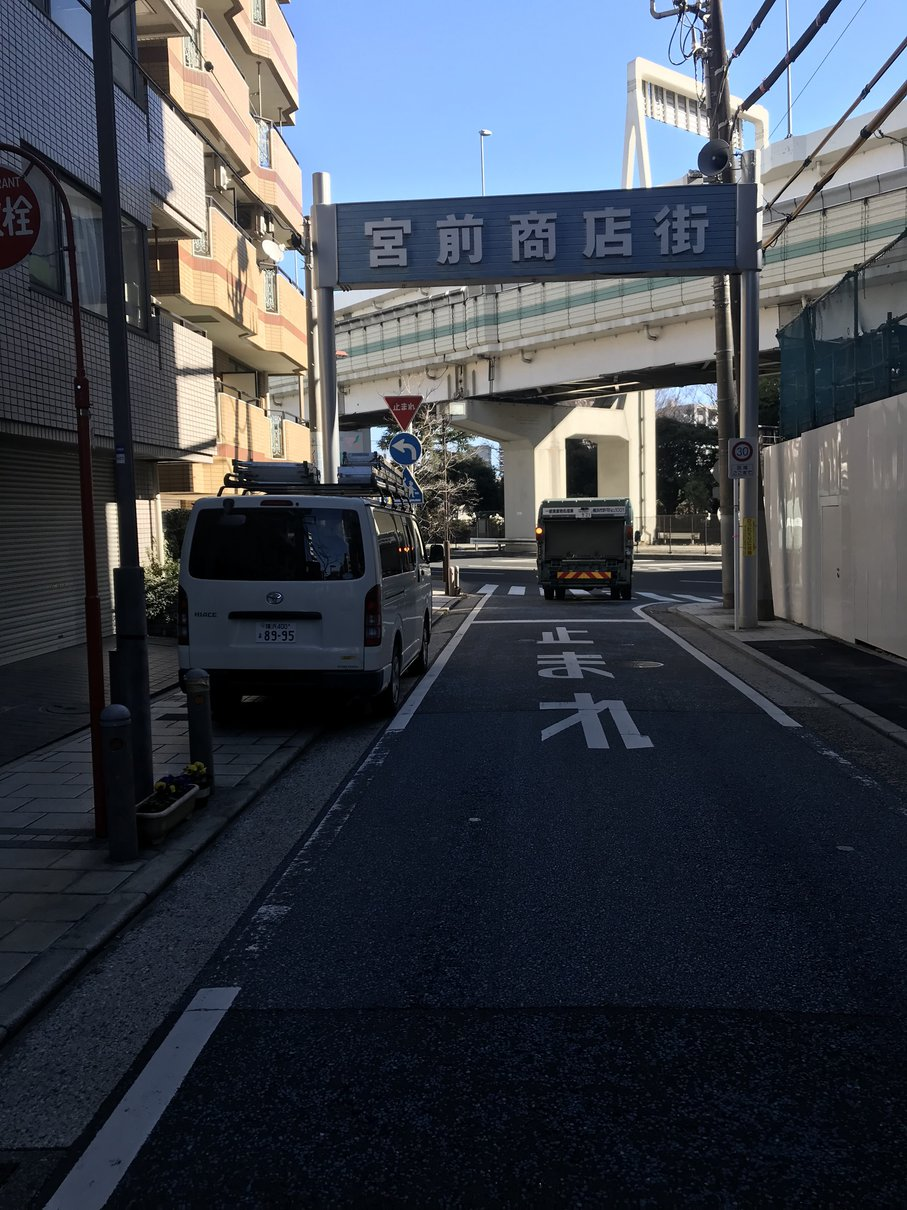stop_sign: (381, 393, 424, 433)
